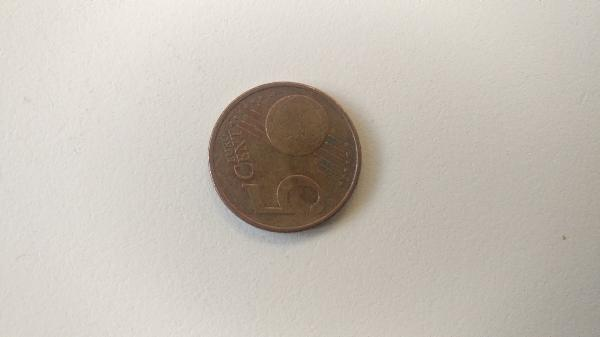Five Cent: (202, 77, 373, 238)
